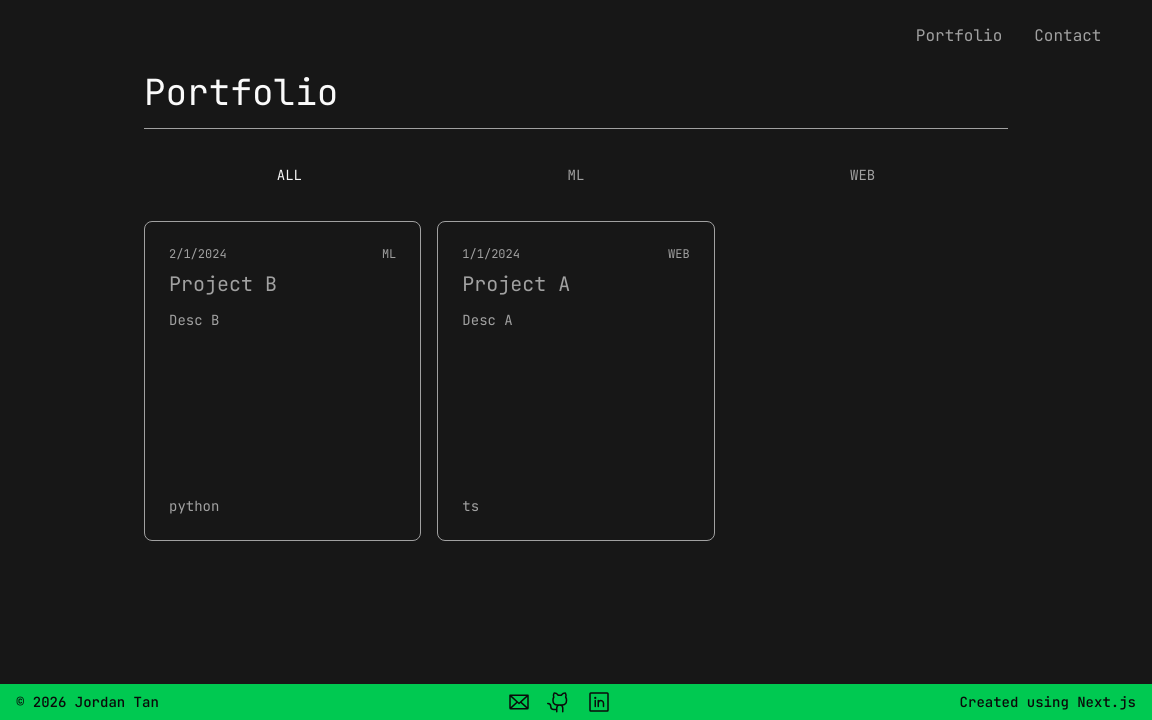
Test: PortfolioIndex › filters by category when category button clicked
The image size is (1152, 720).
Click the button "ML".
click(576, 175)  # box [568,165,584,185]
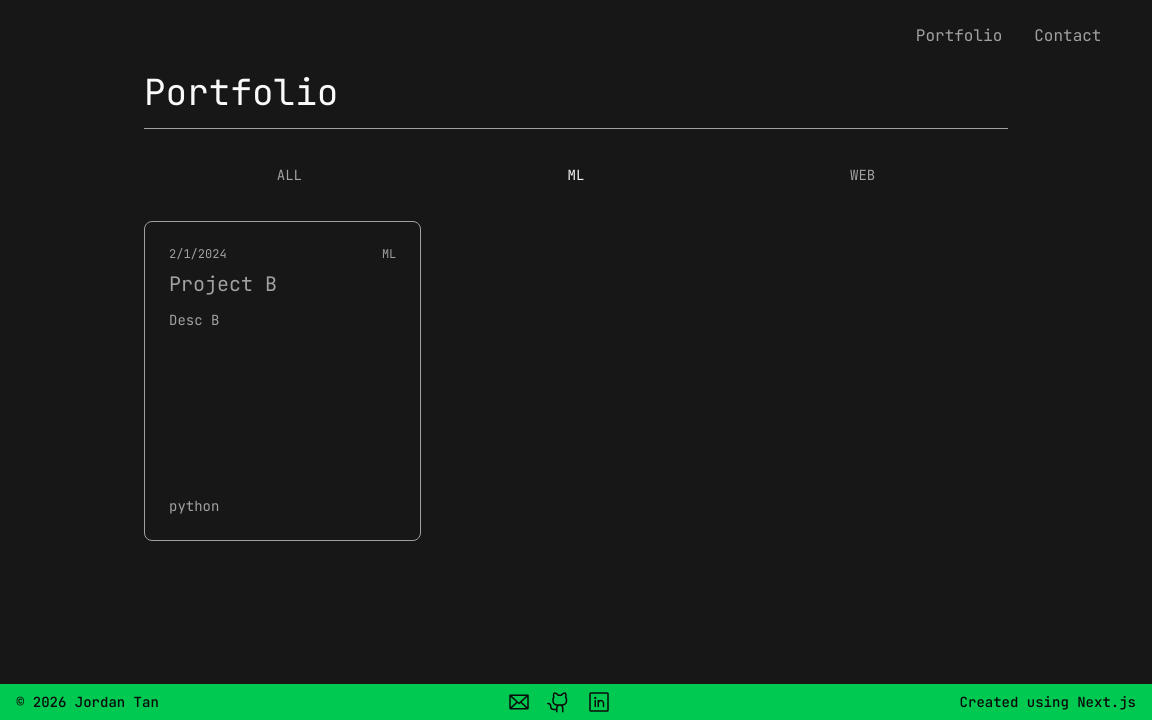
Now no links "Project A" are shown
